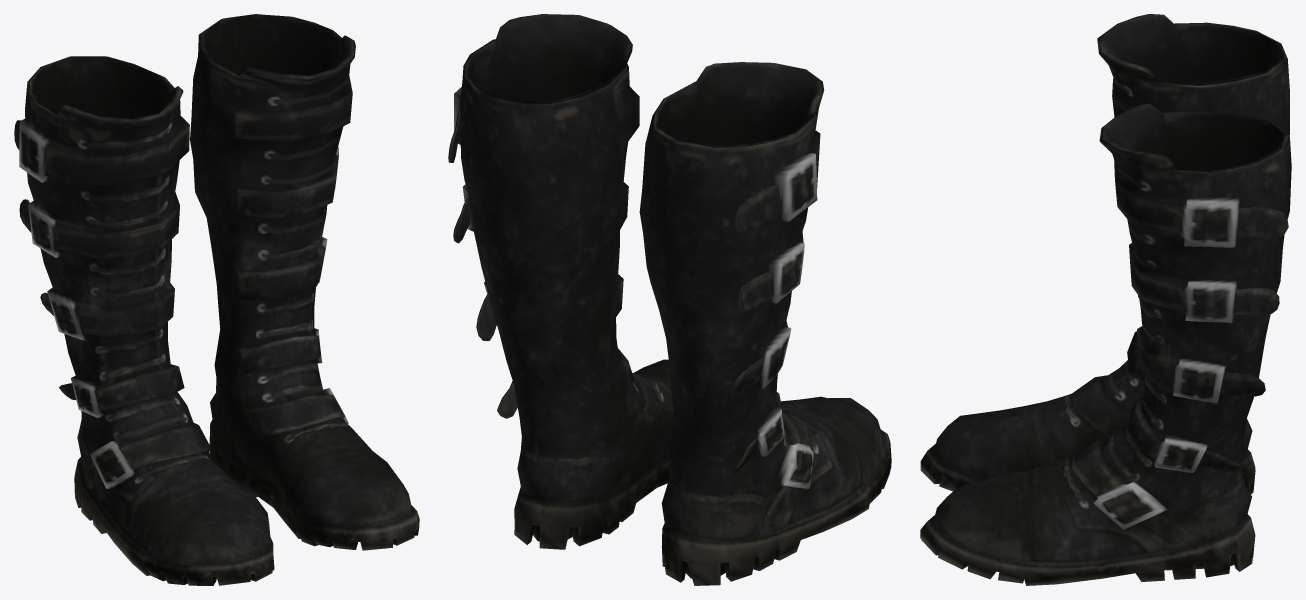
The model's file is Shoes_2.glb.
3 renders of one model, left to right at view 1: azimuth 30°, elevation 25°; view 2: azimuth 150°, elevation 25°; view 3: azimuth 270°, elevation 25°, orthographic. The views are drawn at different scales.
Parts seen in each view (by area): view 1: Punk_Strap_Boots; view 2: Punk_Strap_Boots; view 3: Punk_Strap_Boots.
Part boxes in pixels (<box>): Punk_Strap_Boots: <box>14,14,419,585</box>; Punk_Strap_Boots: <box>448,14,891,585</box>; Punk_Strap_Boots: <box>920,14,1291,585</box>.
Size of the model in its own units: 0.355 by 0.4687 by 0.356.
Materials: 1 (1 with a texture image).
